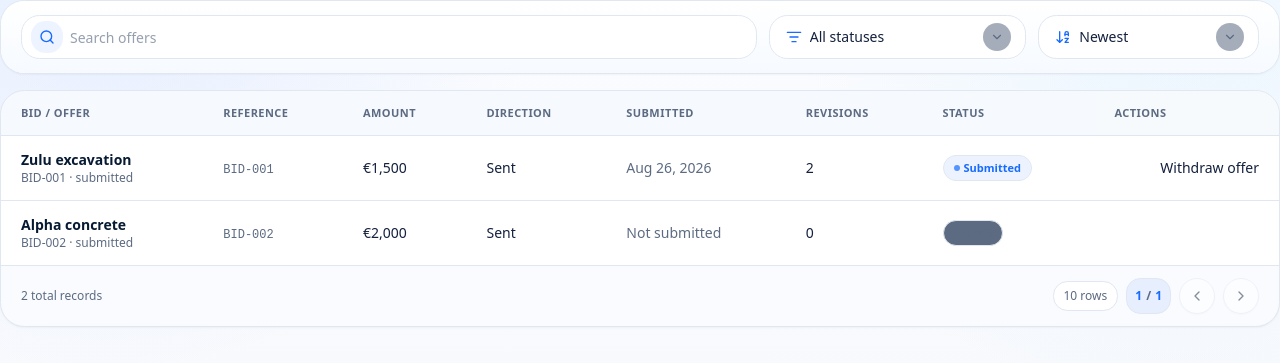
OffersTable › filters offers and shows the empty state when no row matches
Type "alpha" into the field labelled "Search offers" at (389,37), box [21, 15, 757, 59]
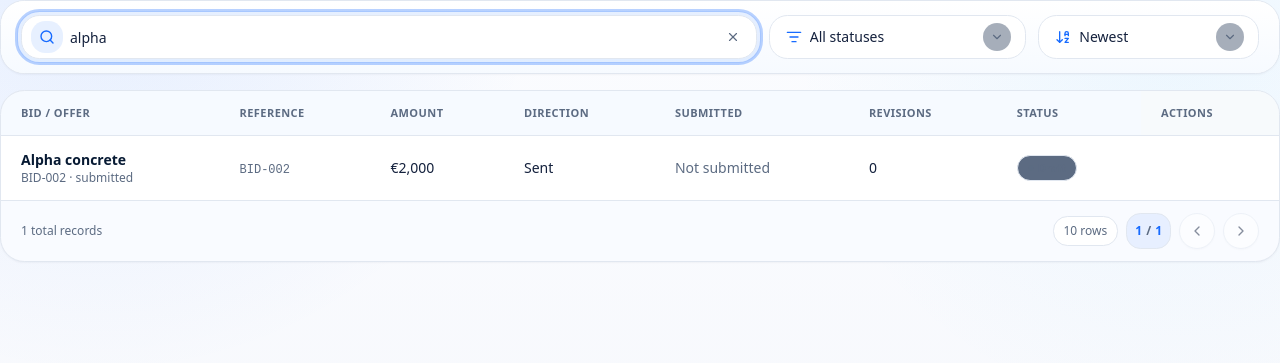
Expected: the text "Alpha concrete" is shown 2 times
Expected: the text "Zulu excavation" is gone
Replace the text in the field named "Search offers" with "missing" at (389,37), box [21, 15, 757, 59]
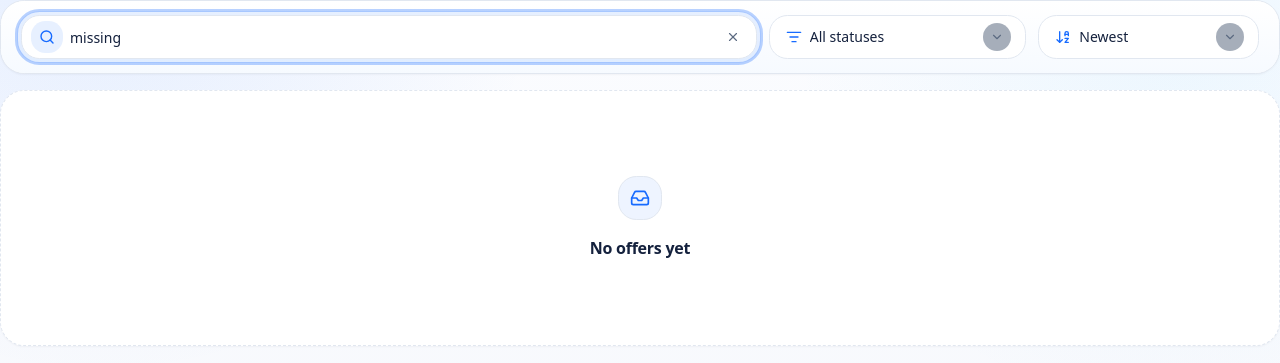
Expected: the text "No offers yet" is shown, [590, 236, 690, 260]
